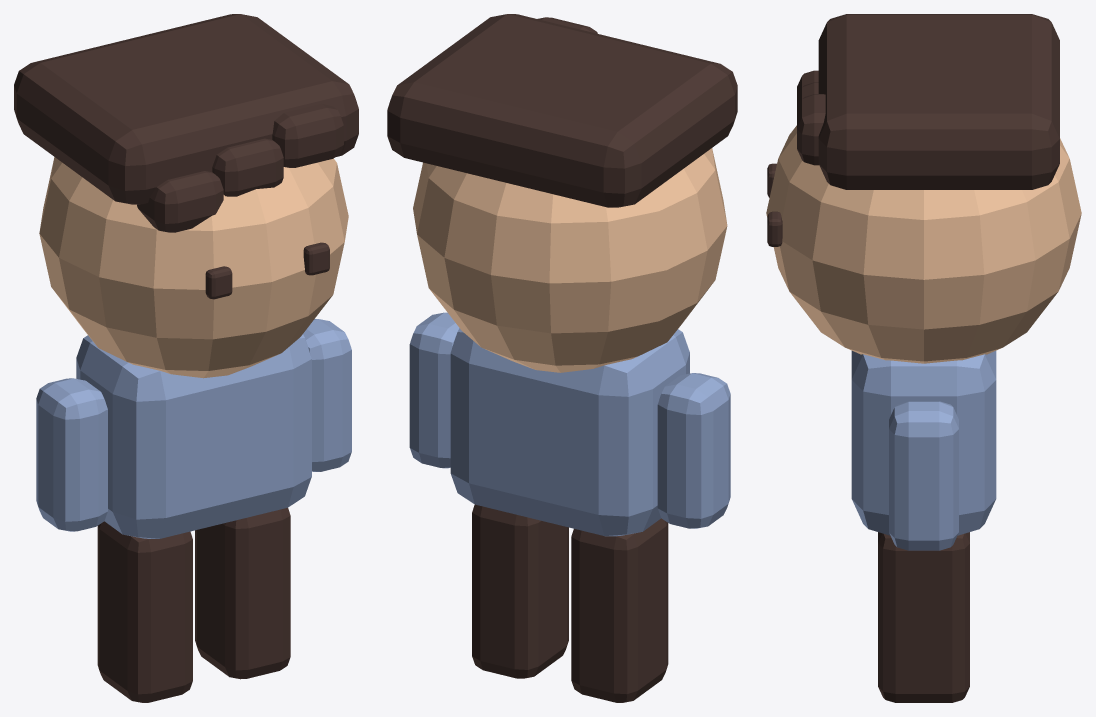
The model's file is kar_warga_raka.fbx.
3 renders of one model, left to right at view 1: azimuth 30°, elevation 25°; view 2: azimuth 150°, elevation 25°; view 3: azimuth 270°, elevation 25°, orthographic.
Visible parts, largest first — view 1: kar_warga_raka; view 2: kar_warga_raka; view 3: kar_warga_raka.
Boxes of the visible parts, box(x1,y1,x2,y2) form: kar_warga_raka: box(14, 14, 358, 702); kar_warga_raka: box(387, 14, 737, 702); kar_warga_raka: box(766, 14, 1081, 702).
Size of the model in its own units: 79 by 152 by 72.
1 material, 1 textured.
